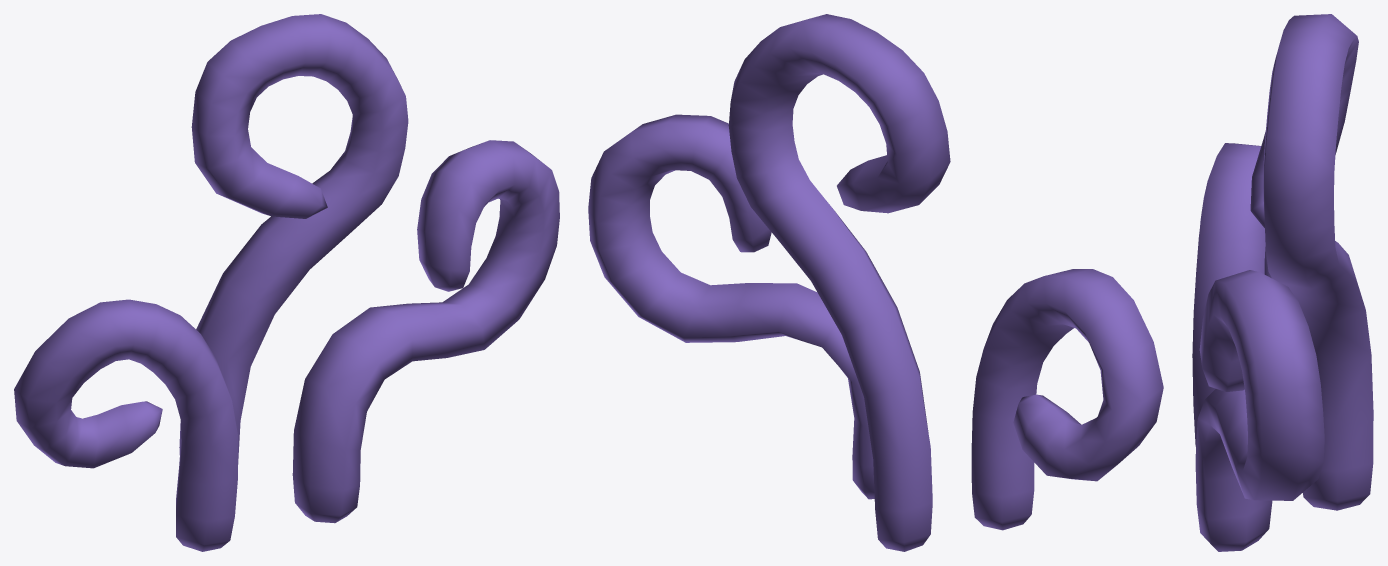
Rendered from Spiroots_02.fbx.
The picture shows the model from 3 angles, left to right: view 1: azimuth 30°, elevation 25°; view 2: azimuth 150°, elevation 25°; view 3: azimuth 270°, elevation 25°; orthographic projection. The views are drawn at different scales.
Visible parts, largest first — view 1: Spiroots_02_LOD0; view 2: Spiroots_02_LOD0; view 3: Spiroots_02_LOD0.
Part boxes in pixels (<box>): Spiroots_02_LOD0: <box>14,14,559,551</box>; Spiroots_02_LOD0: <box>588,14,1163,551</box>; Spiroots_02_LOD0: <box>1192,14,1373,551</box>.
Size of what is drawn, in the model's own units: 646 by 548 by 172.
